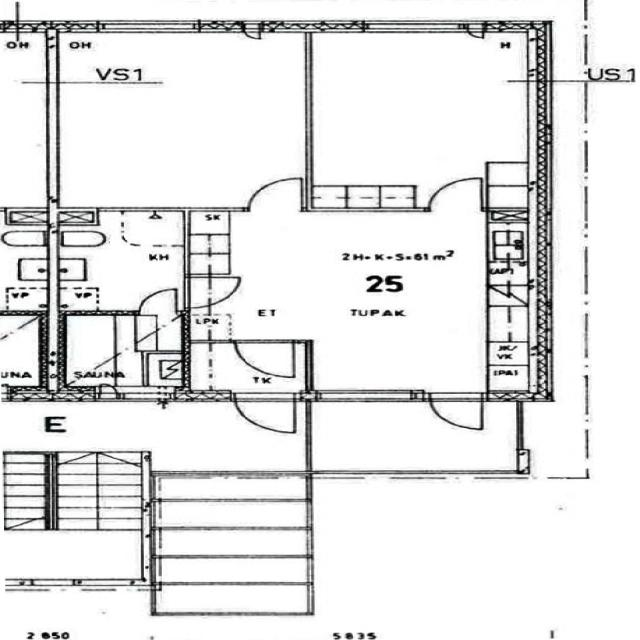door: (234, 390, 294, 435), (234, 340, 294, 377), (431, 390, 481, 430), (184, 277, 244, 308), (248, 177, 302, 210), (429, 177, 481, 211), (139, 289, 177, 316)
